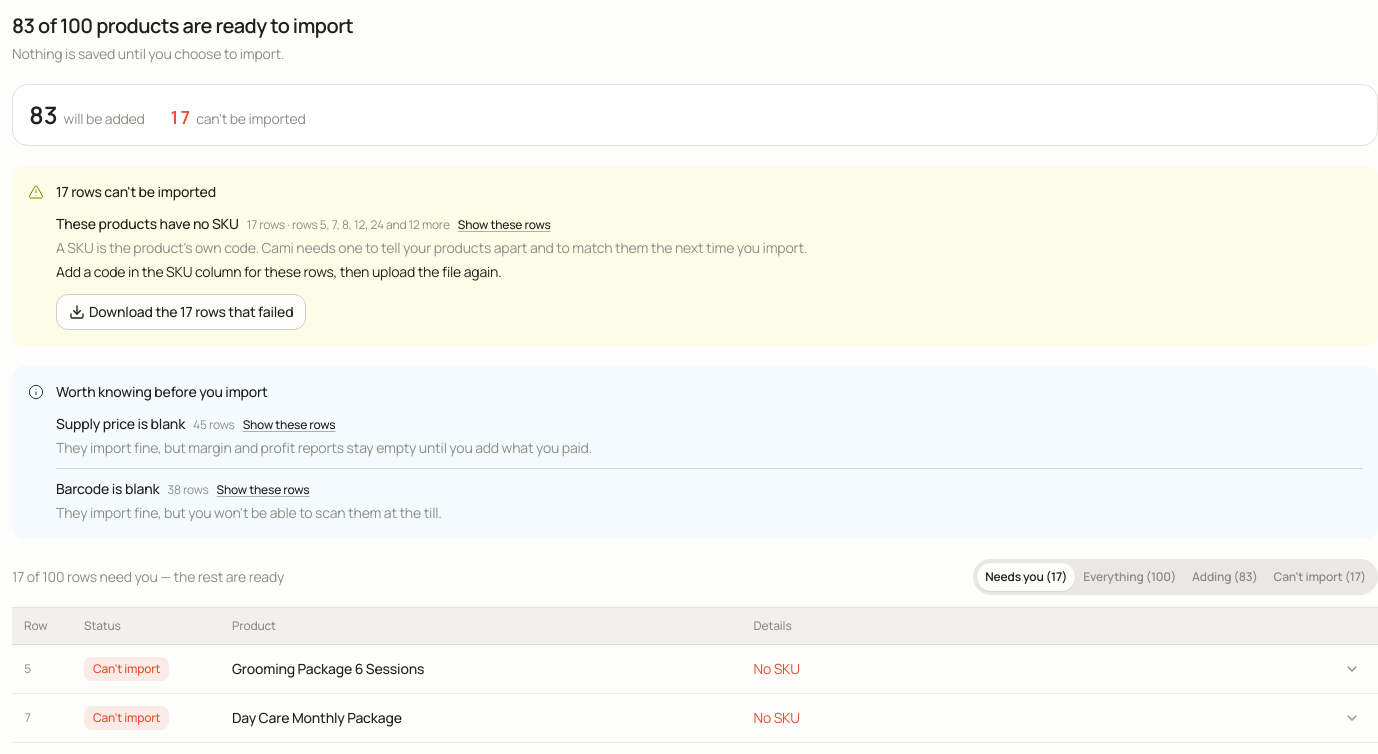
Test: a plain new product's outcome cell stays empty › never repeats its own status badge
Click the button "Everything (100)" at (1130, 577), box [1075,563,1184,591]
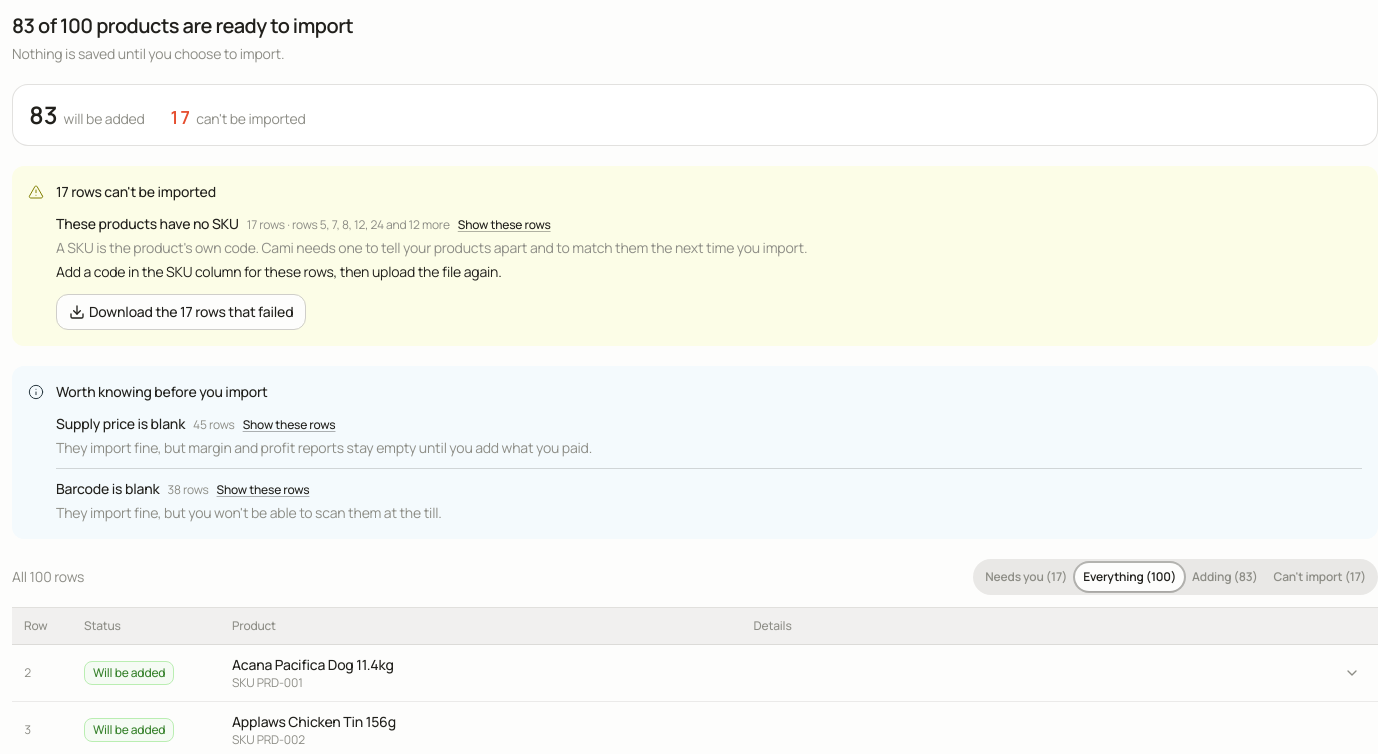
Expected: the text "Will be added" is shown 83 times
